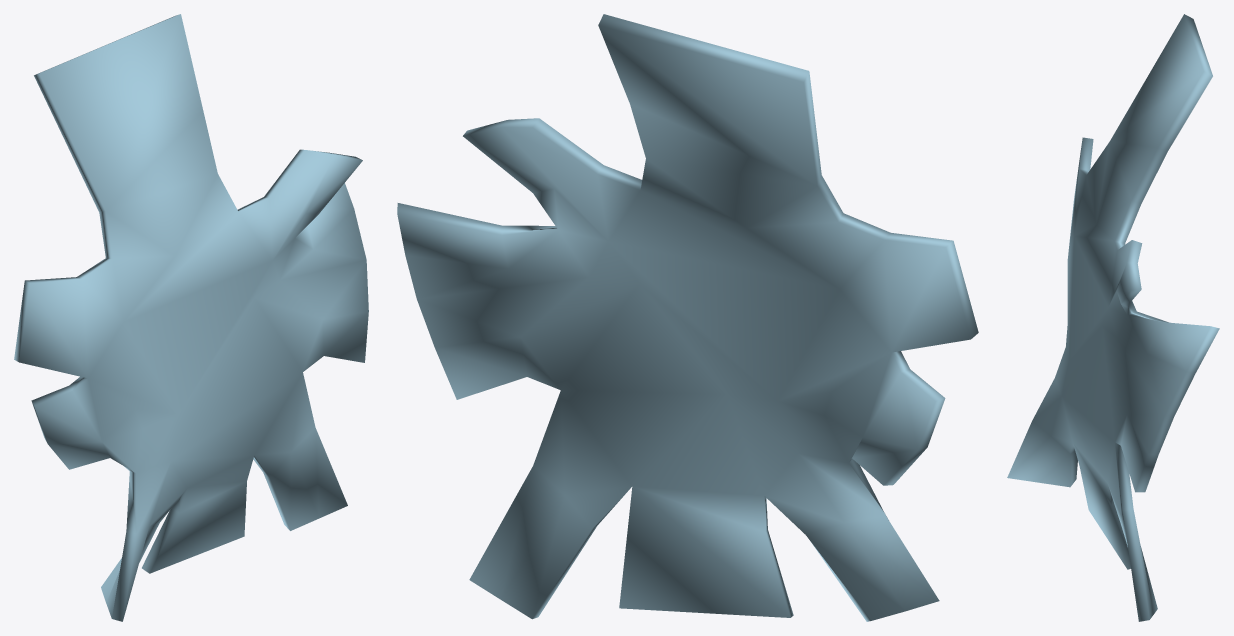
File: articulacoes-radiate-carpal-ligament-r.glb
3 renders of one model, left to right at view 1: azimuth 30°, elevation 25°; view 2: azimuth 150°, elevation 25°; view 3: azimuth 270°, elevation 25°, orthographic. The views are drawn at different scales.
Parts seen in each view (by area): view 1: Radiate carpal ligament.r; view 2: Radiate carpal ligament.r; view 3: Radiate carpal ligament.r.
Part boxes in pixels (x1,y1,x2,y2): Radiate carpal ligament.r: (14, 14, 368, 621); Radiate carpal ligament.r: (397, 14, 978, 621); Radiate carpal ligament.r: (1007, 14, 1219, 621).
Bounding box in the file's own units: 0.0201 × 0.0251 × 0.00966.
